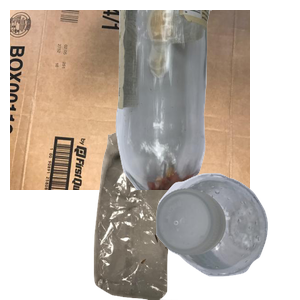cardboard: (10, 10, 250, 190)
glass: (113, 10, 300, 190)
plastic: (153, 170, 300, 300)
trash: (70, 120, 256, 300)
